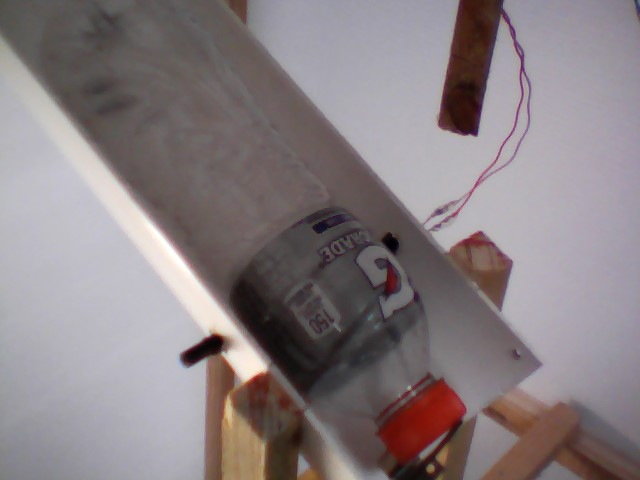plastico: (29, 1, 472, 463)
